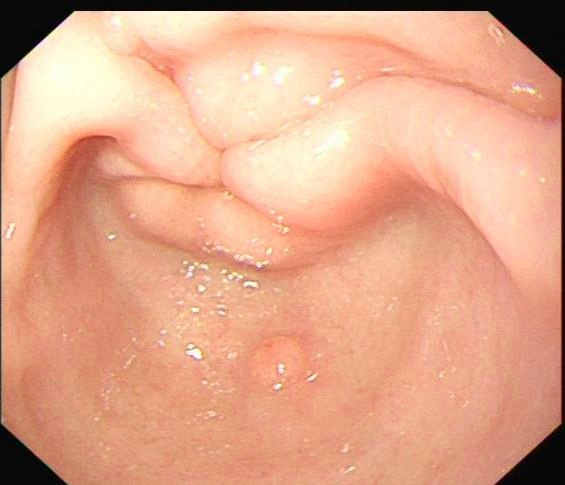Polyp: (231, 324, 323, 395)
